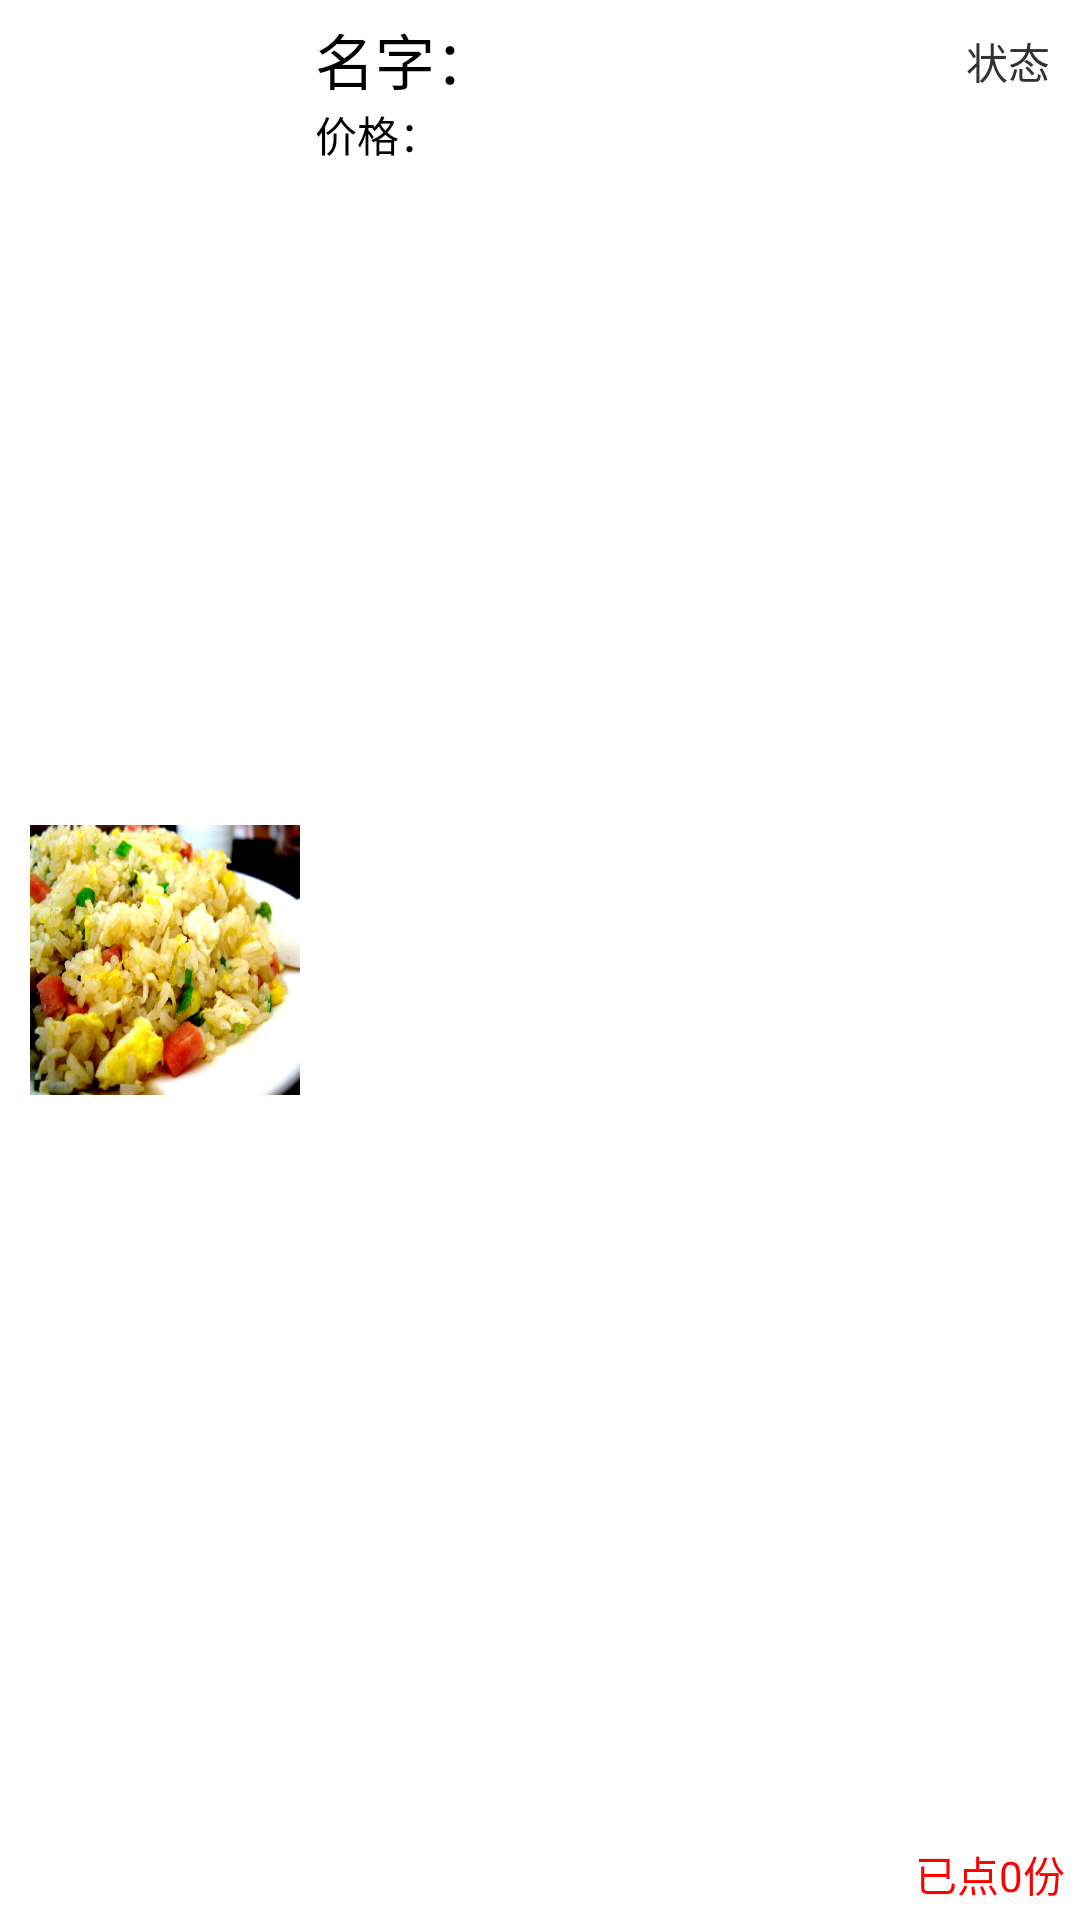

Icon click points for this 1080px×1920px phone screenshot, format (x,y):
danchaofan: (165,960)
